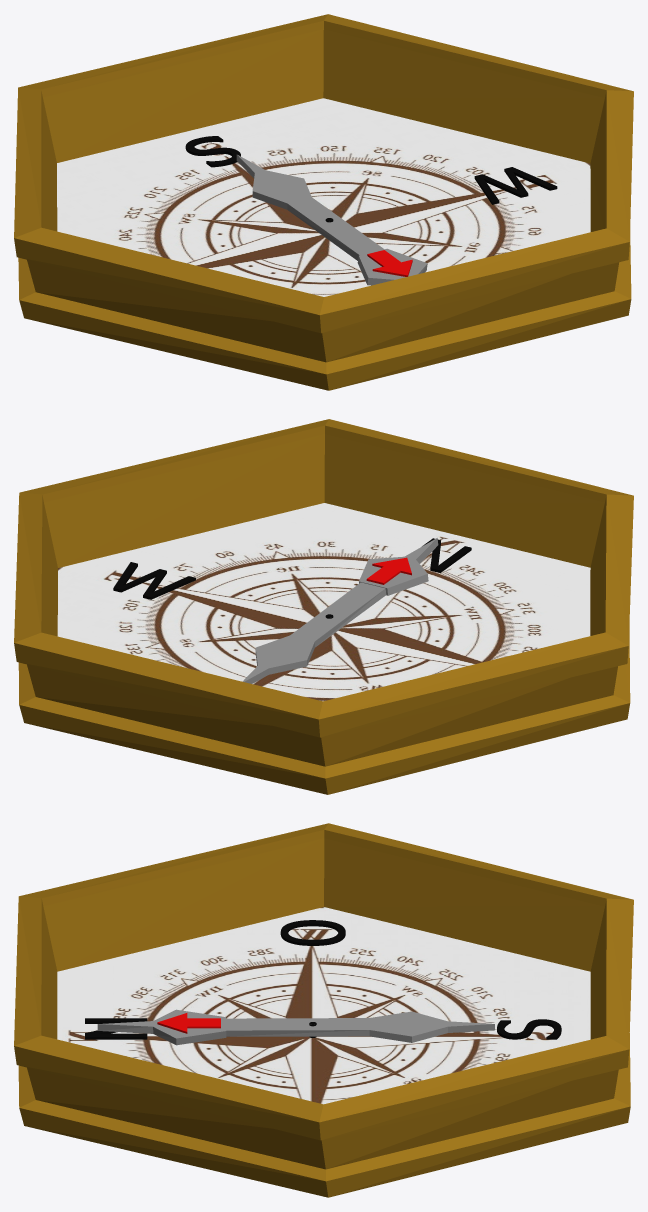
File: CompassRedo.FBX
The picture shows the model from 3 angles, top to bottom: view 1: azimuth 30°, elevation 25°; view 2: azimuth 150°, elevation 25°; view 3: azimuth 270°, elevation 25°; orthographic projection.
Parts seen in each view (by area): view 1: Extrudieren_1_2, Nadel, Deckfläche_2, Beschriftung, Arrow; view 2: Extrudieren_1_2, Nadel, Deckfläche_2, Arrow, Beschriftung; view 3: Extrudieren_1_2, Nadel, Deckfläche_2, Beschriftung, Arrow.
Part boxes in pixels (left/top/right/bottom): Extrudieren_1_2: left=14, top=14, right=633, bottom=390; Nadel: left=236, top=154, right=427, bottom=285; Deckfläche_2: left=185, top=136, right=556, bottom=202; Beschriftung: left=185, top=139, right=557, bottom=204; Arrow: left=367, top=250, right=412, bottom=276; Extrudieren_1_2: left=14, top=419, right=633, bottom=794; Nadel: left=243, top=538, right=438, bottom=683; Deckfläche_2: left=113, top=538, right=471, bottom=596; Arrow: left=366, top=557, right=411, bottom=584; Beschriftung: left=113, top=543, right=471, bottom=599; Extrudieren_1_2: left=14, top=823, right=633, bottom=1197; Nadel: left=97, top=1009, right=494, bottom=1045; Deckfläche_2: left=85, top=920, right=561, bottom=1037; Beschriftung: left=85, top=923, right=561, bottom=1039; Arrow: left=157, top=1013, right=220, bottom=1033.
Bounding box in the file's own units: 65.08 × 8.5 × 57.
